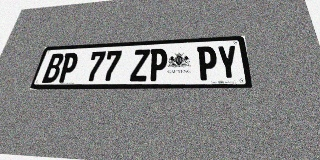7: (84, 51, 106, 82), (101, 50, 122, 82)
B: (42, 53, 65, 83)
P: (197, 46, 218, 80), (57, 52, 80, 83), (148, 48, 168, 81)
Y: (216, 45, 240, 80)
Z: (129, 49, 150, 81)
